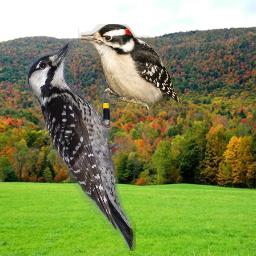Woodpecker: (26, 41, 136, 251), (78, 24, 183, 116)
